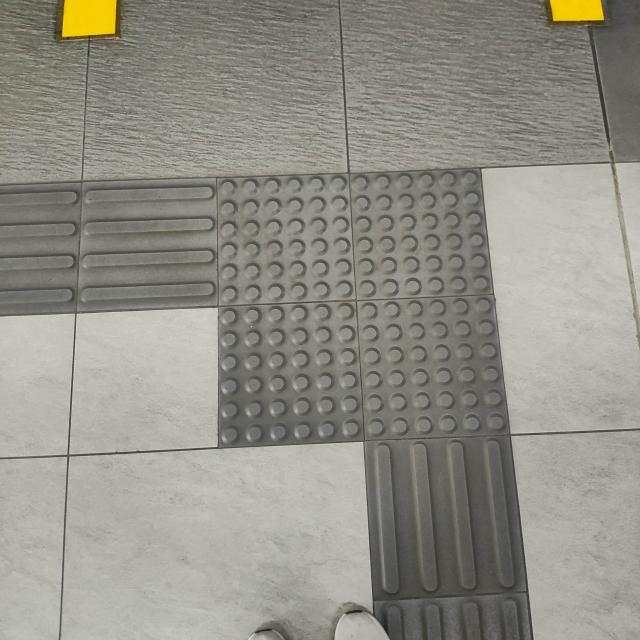kiri: (0, 115, 623, 560)
